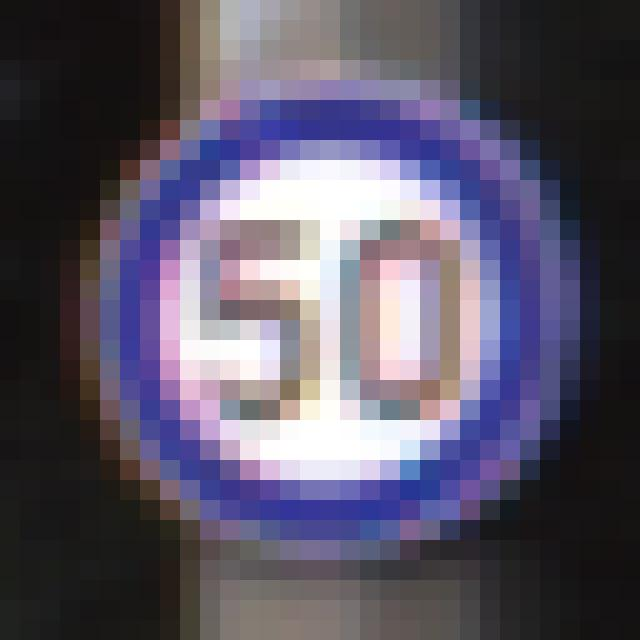SPEED LIMIT 50: (92, 100, 564, 536)
